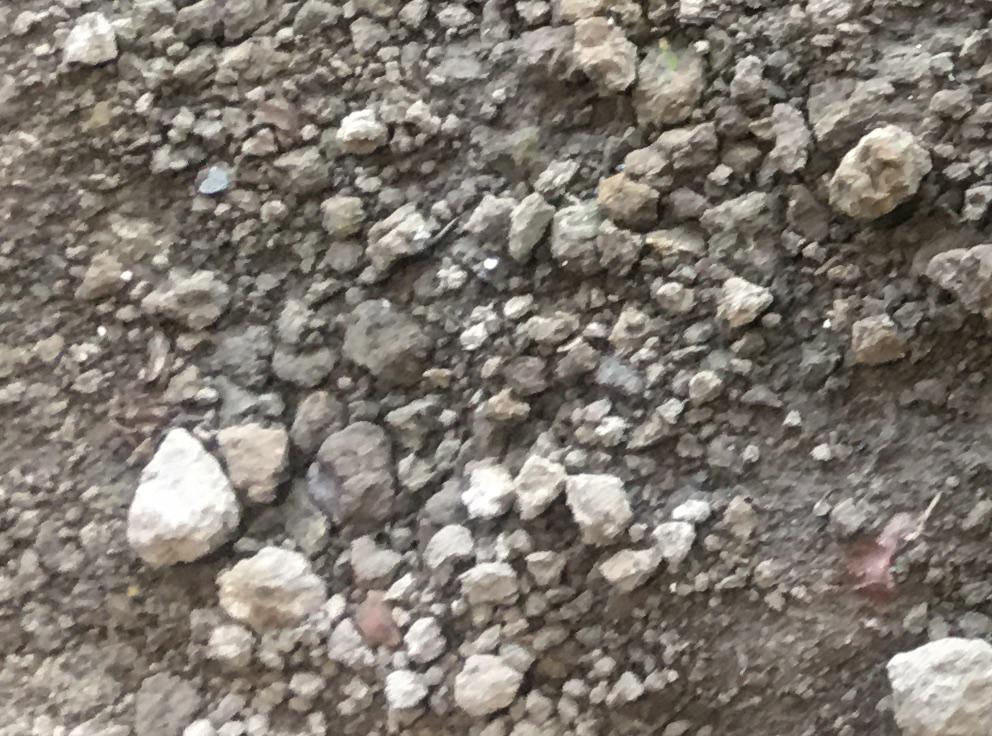block: (124, 425, 233, 566), (209, 548, 324, 636), (890, 638, 990, 736), (825, 123, 923, 222)
